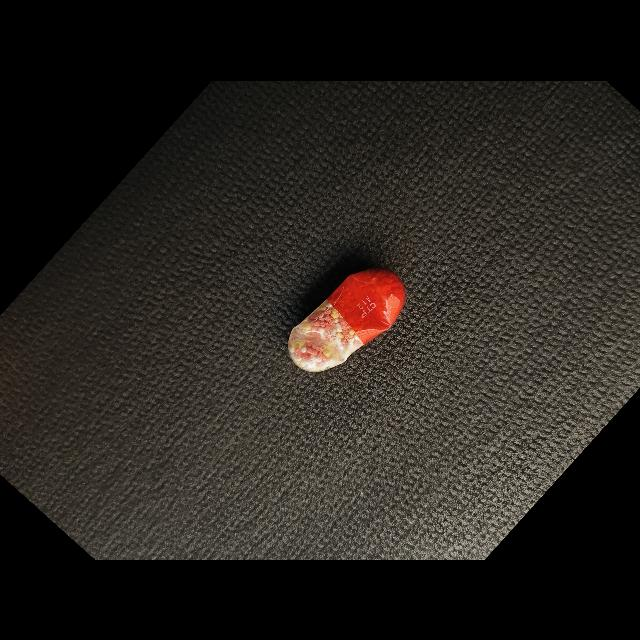Defective Capsule: (288, 268, 406, 372)
